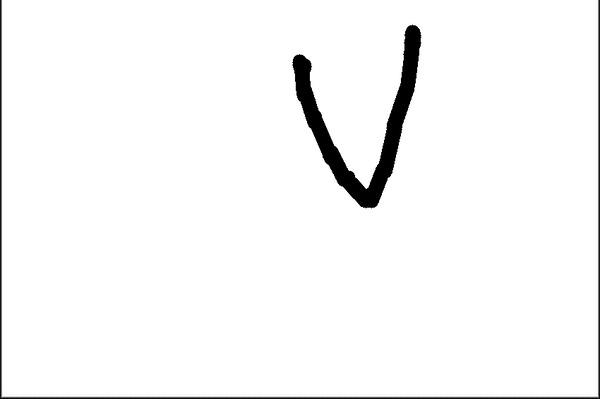V: (282, 17, 438, 218)
